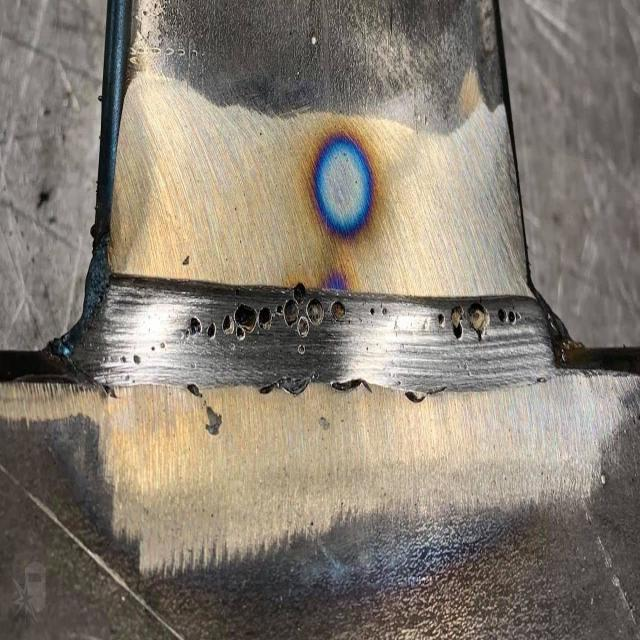Porosity: (275, 275, 327, 341), (220, 297, 277, 347), (465, 299, 491, 346), (495, 302, 522, 332), (448, 301, 467, 342), (182, 314, 203, 344), (329, 297, 351, 324), (115, 349, 143, 369), (205, 318, 218, 343), (149, 339, 168, 353), (437, 310, 448, 332), (297, 339, 307, 360), (368, 301, 376, 318)
